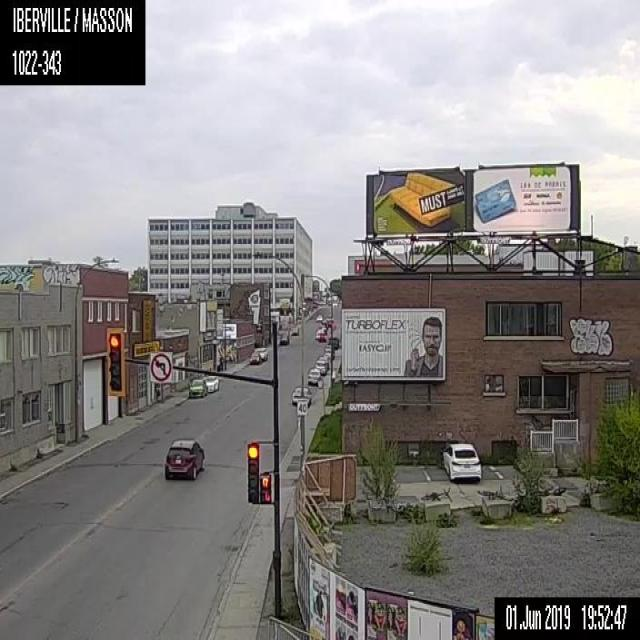vehicle: (163, 437, 205, 480), (441, 441, 481, 483), (290, 386, 311, 406), (188, 377, 206, 397), (203, 375, 219, 392), (306, 368, 321, 384), (314, 325, 328, 342), (316, 353, 329, 369), (254, 346, 268, 360), (248, 351, 262, 364), (314, 359, 326, 374), (323, 343, 334, 359), (278, 330, 288, 346), (328, 336, 338, 350), (289, 324, 298, 336), (331, 294, 338, 308), (314, 311, 323, 321)
